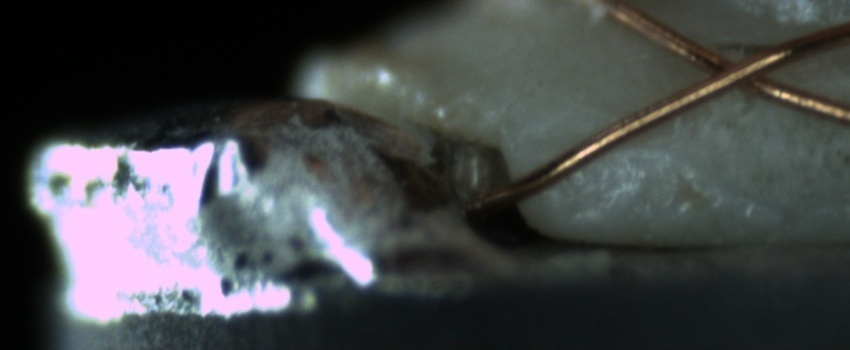CL: (685, 36, 798, 103)
